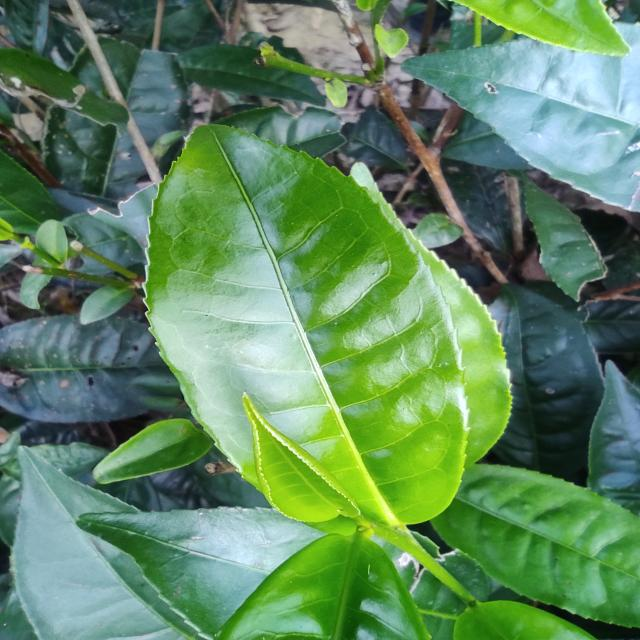Category B(2-4 days): (138, 116, 470, 532)
